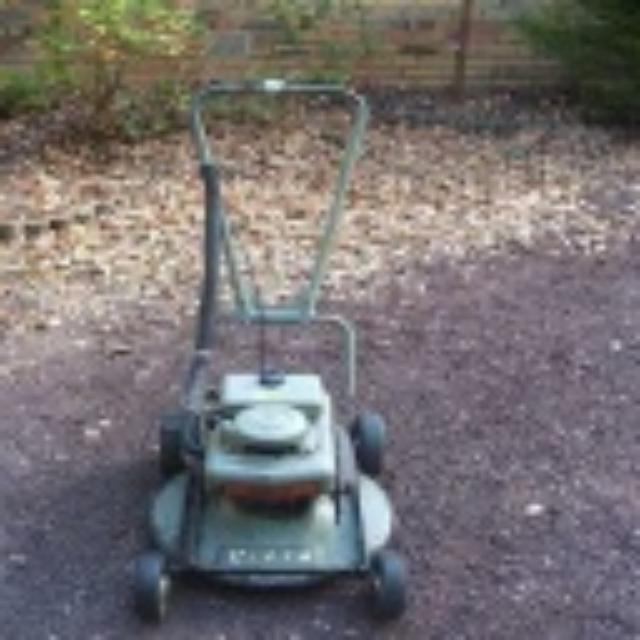Rotary-Mower: (120, 70, 410, 620)
